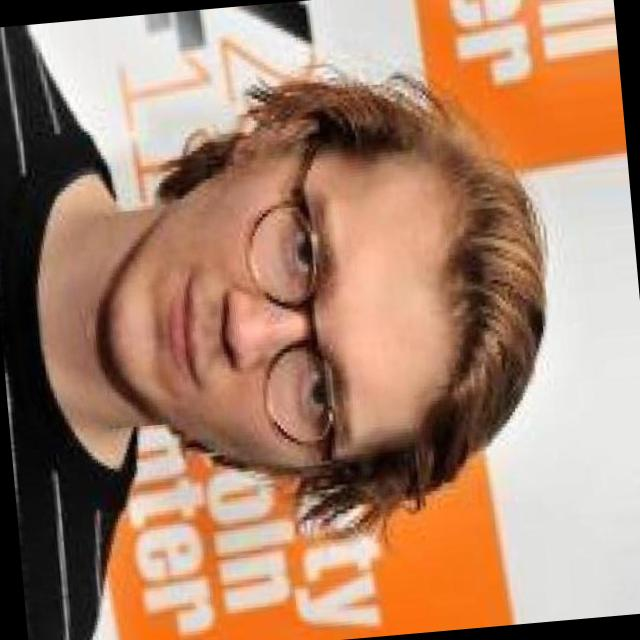bareface: (66, 103, 487, 468)
